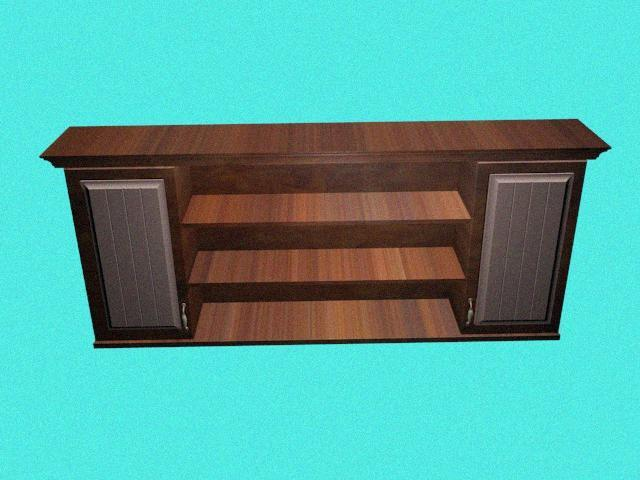cabinet_door: (470, 163, 572, 334), (80, 169, 182, 340)
